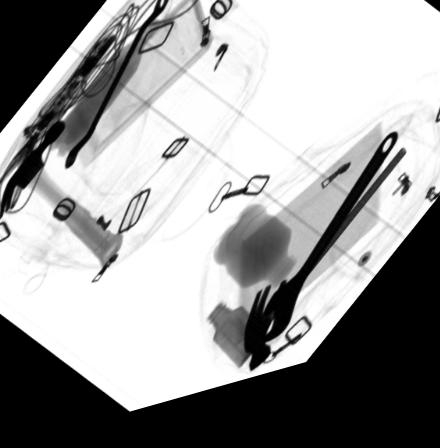Hammer: (242, 168, 409, 384), (0, 119, 122, 278)
Wrench: (258, 149, 397, 357), (64, 0, 168, 171)
